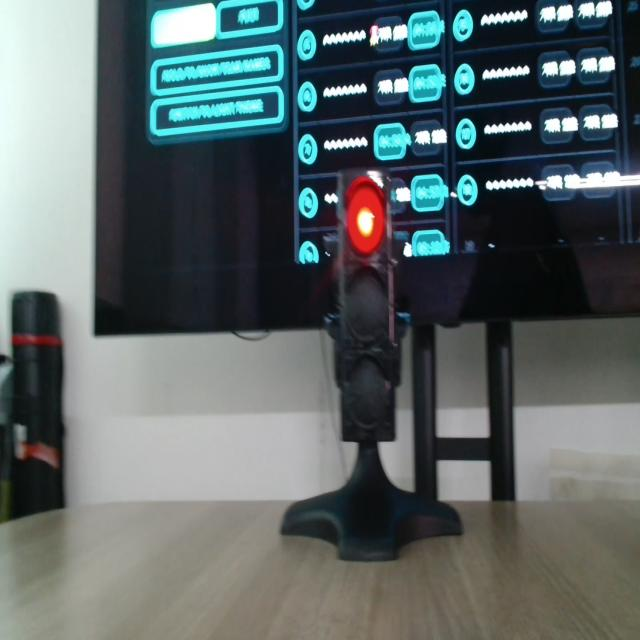red_light: (345, 176, 386, 255)
